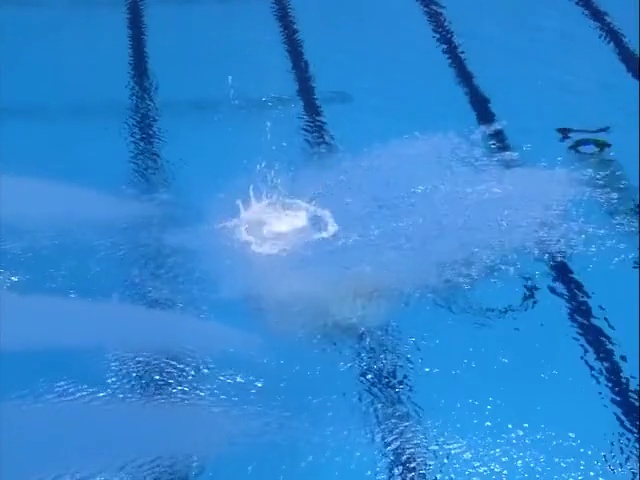splash: (234, 193, 338, 254)
